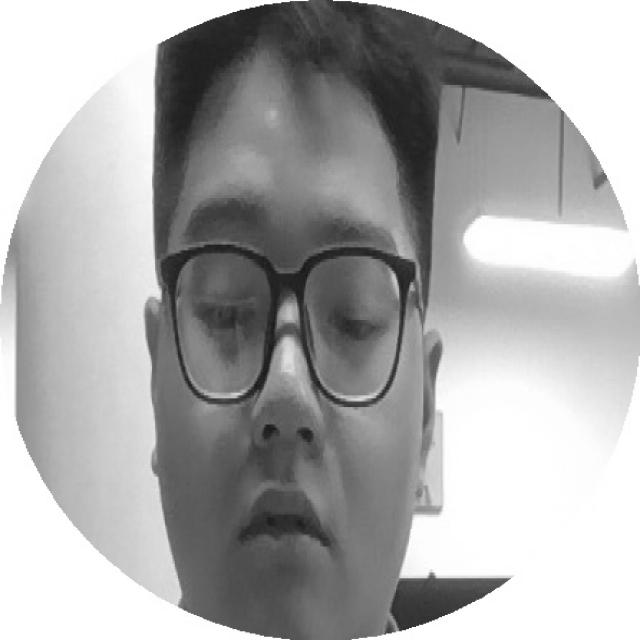real: (153, 54, 423, 633), (158, 234, 419, 366)
